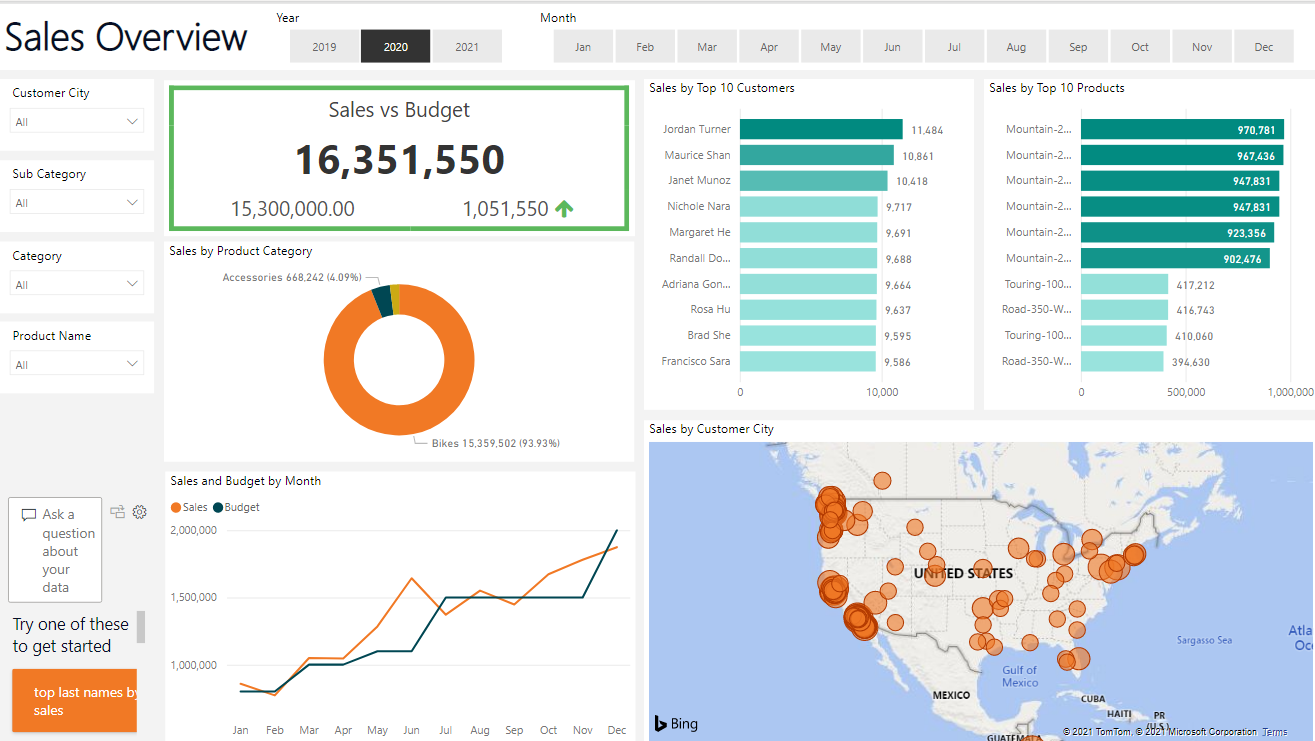

The page's visual inventory and layout, read from the dashboard file:
{"tool":"powerbi","page":{"name":"Sales Overview","canvas":[1280,720],"ordinal":0},"visuals":[{"type":"textbox","box":[0,0,1280,64],"z":0},{"type":"slicer","fields":{"Values":["DIM_Calendar.Year"]},"box":[256,0,256,64],"z":1000},{"type":"slicer","fields":{"Values":["DIM_Calendar.MonthShort"]},"box":[512,0,768,64],"z":2000},{"type":"slicer","fields":{"Values":["DIM_Customers.Customer City"]},"box":[0,73,150.5,69.3],"z":3000},{"type":"slicer","fields":{"Values":["DIM_Products.Product Category"]},"box":[0,229.9,150.5,69.3],"z":4000},{"type":"slicer","fields":{"Values":["DIM_Products.Product Name"]},"box":[0,308.4,150.5,69.3],"z":5000},{"type":"slicer","fields":{"Values":["DIM_Products.Sub Category"]},"box":[0,151.4,150.5,69.3],"z":6000},{"type":"barChart","title":"Sales by Top 10 Products","fields":{"Category":["DIM_Products.Product Name"],"Y":["Analysis Metrics.Sales"]},"box":[955.2,73,324.8,321.1],"z":7000},{"type":"lineChart","fields":{"Category":["DIM_Calendar.MonthShort"],"Y":["Analysis Metrics.Sales","Analysis Metrics.Budget"]},"box":[160.7,452.8,456.3,267.2],"z":8000},{"type":"barChart","title":"Sales by Top 10 Customers","fields":{"Category":["DIM_Customers.Full Name"],"Y":["Analysis Metrics.Sales"]},"box":[625.9,73,320.2,321.1],"z":9000},{"type":"donutChart","fields":{"Y":["Analysis Metrics.Sales"],"Series":["DIM_Products.Product Category"]},"box":[160.6,229.9,456.2,213.5],"z":10000},{"type":"map","fields":{"Category":["DIM_Customers.Customer City"],"Size":["Analysis Metrics.Sales"]},"box":[625.9,403.3,654.1,316.6],"z":12000},{"type":"BBED0A4D4D8D44CE93CF2DAFADEE466C","fields":{"actual":["Analysis Metrics.Sales"],"target2":["Analysis Metrics.Sales / Budget"],"target1":["Analysis Metrics.Budget"]},"box":[160.5,73.4,456.6,151.3],"z":13001},{"type":"qnaVisual","box":[0,452.8,150.5,267.2],"z":13002}]}

Visuals, with their boxes in screenshot pixels (x1, y1, x2, y2), scaled from the page's 1280x720 canvas onto the 1315x741 screenshot:
textbox: 0,0,1314,66
slicer - DIM_Calendar.Year: 263,0,526,66
slicer - DIM_Calendar.MonthShort: 526,0,1314,66
slicer - DIM_Customers.Customer City: 0,75,155,146
slicer - DIM_Products.Product Category: 0,237,155,308
slicer - DIM_Products.Product Name: 0,317,155,389
slicer - DIM_Products.Sub Category: 0,156,155,227
"Sales by Top 10 Products" barChart: 981,75,1314,406
lineChart - DIM_Calendar.MonthShort x Analysis Metrics.Sales: 165,466,634,740
"Sales by Top 10 Customers" barChart: 643,75,972,406
donutChart - Analysis Metrics.Sales x DIM_Products.Product Category: 165,237,634,456
map - DIM_Customers.Customer City x Analysis Metrics.Sales: 643,415,1314,740
BBED0A4D4D8D44CE93CF2DAFADEE466C - Analysis Metrics.Sales x Analysis Metrics.Sales / Budget: 165,76,634,231
qnaVisual: 0,466,155,740
